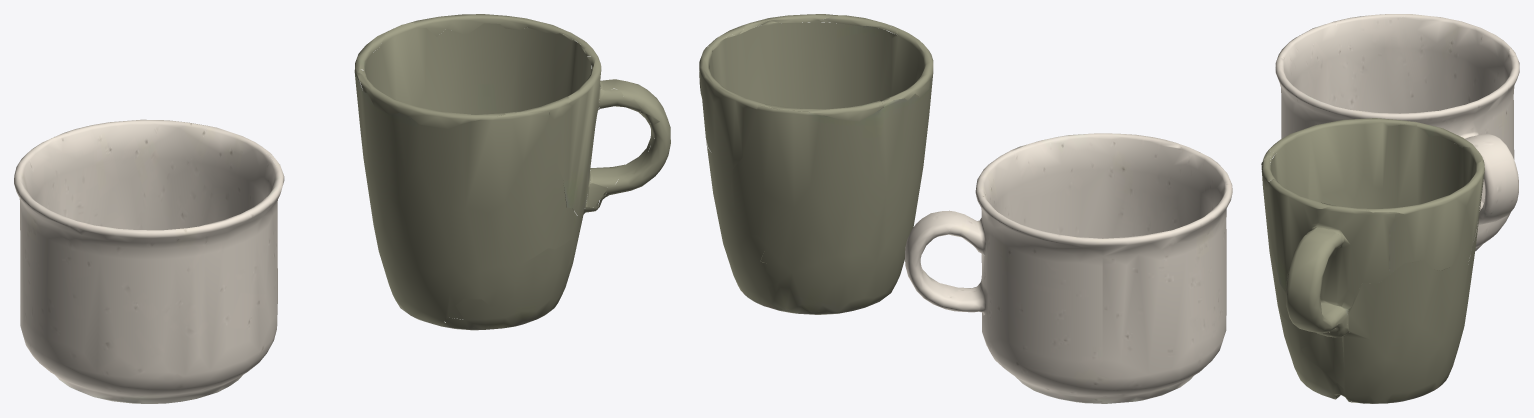
3 views of the same model, side by side, from view 1: azimuth 30°, elevation 25°; view 2: azimuth 150°, elevation 25°; view 3: azimuth 270°, elevation 25° (orthographic). The views are drawn at different scales.
Parts seen in each view (by area): view 1: fargklar-mug.001, daggaster-mug.001; view 2: daggaster-mug.001, fargklar-mug.001; view 3: fargklar-mug.001, daggaster-mug.001.
Part boxes in pixels (x1,y1,x2,y2): fargklar-mug.001: (354, 14, 670, 330); daggaster-mug.001: (14, 119, 284, 403); daggaster-mug.001: (905, 133, 1232, 403); fargklar-mug.001: (699, 14, 933, 314); fargklar-mug.001: (1261, 118, 1484, 403); daggaster-mug.001: (1275, 14, 1519, 254).
Size of the model in its own units: 0.2534 by 0.0954 by 0.1064.
3 materials, 3 textured.
